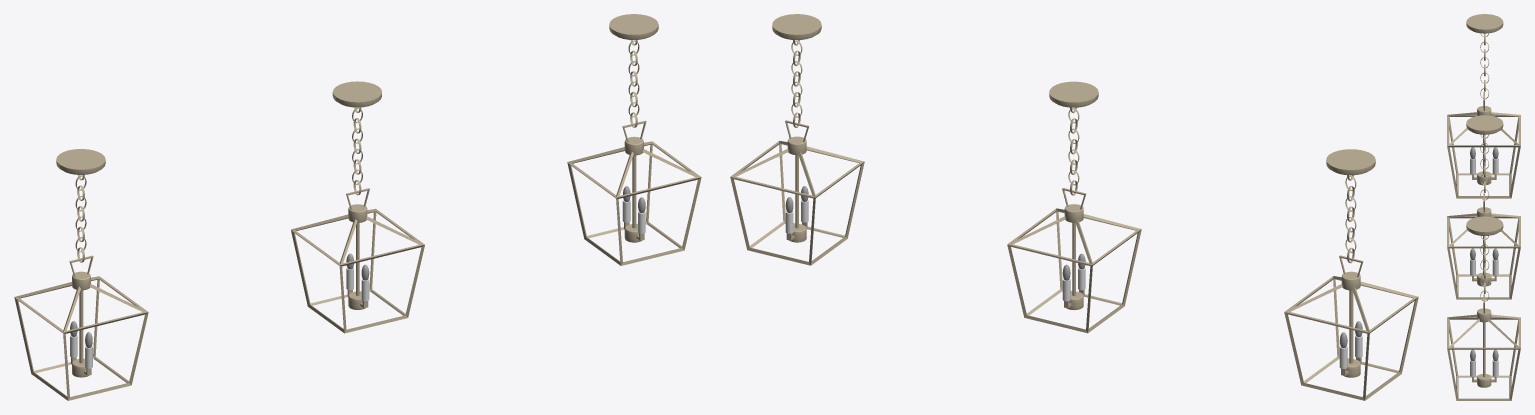
The model's file is Light_DiannaSatinBrass.glb.
3 views of the same model, side by side, from view 1: azimuth 30°, elevation 25°; view 2: azimuth 150°, elevation 25°; view 3: azimuth 270°, elevation 25° (orthographic). The views are drawn at different scales.
Parts seen in each view (by area): view 1: Dianna Satin Brass; view 2: Dianna Satin Brass; view 3: Dianna Satin Brass.
Part boxes in pixels (x1,y1,x2,y2): Dianna Satin Brass: (14, 14, 701, 400); Dianna Satin Brass: (730, 14, 1418, 400); Dianna Satin Brass: (1447, 14, 1520, 400).
Size of the model in its own units: 2.83 by 0.9331 by 0.3781.
